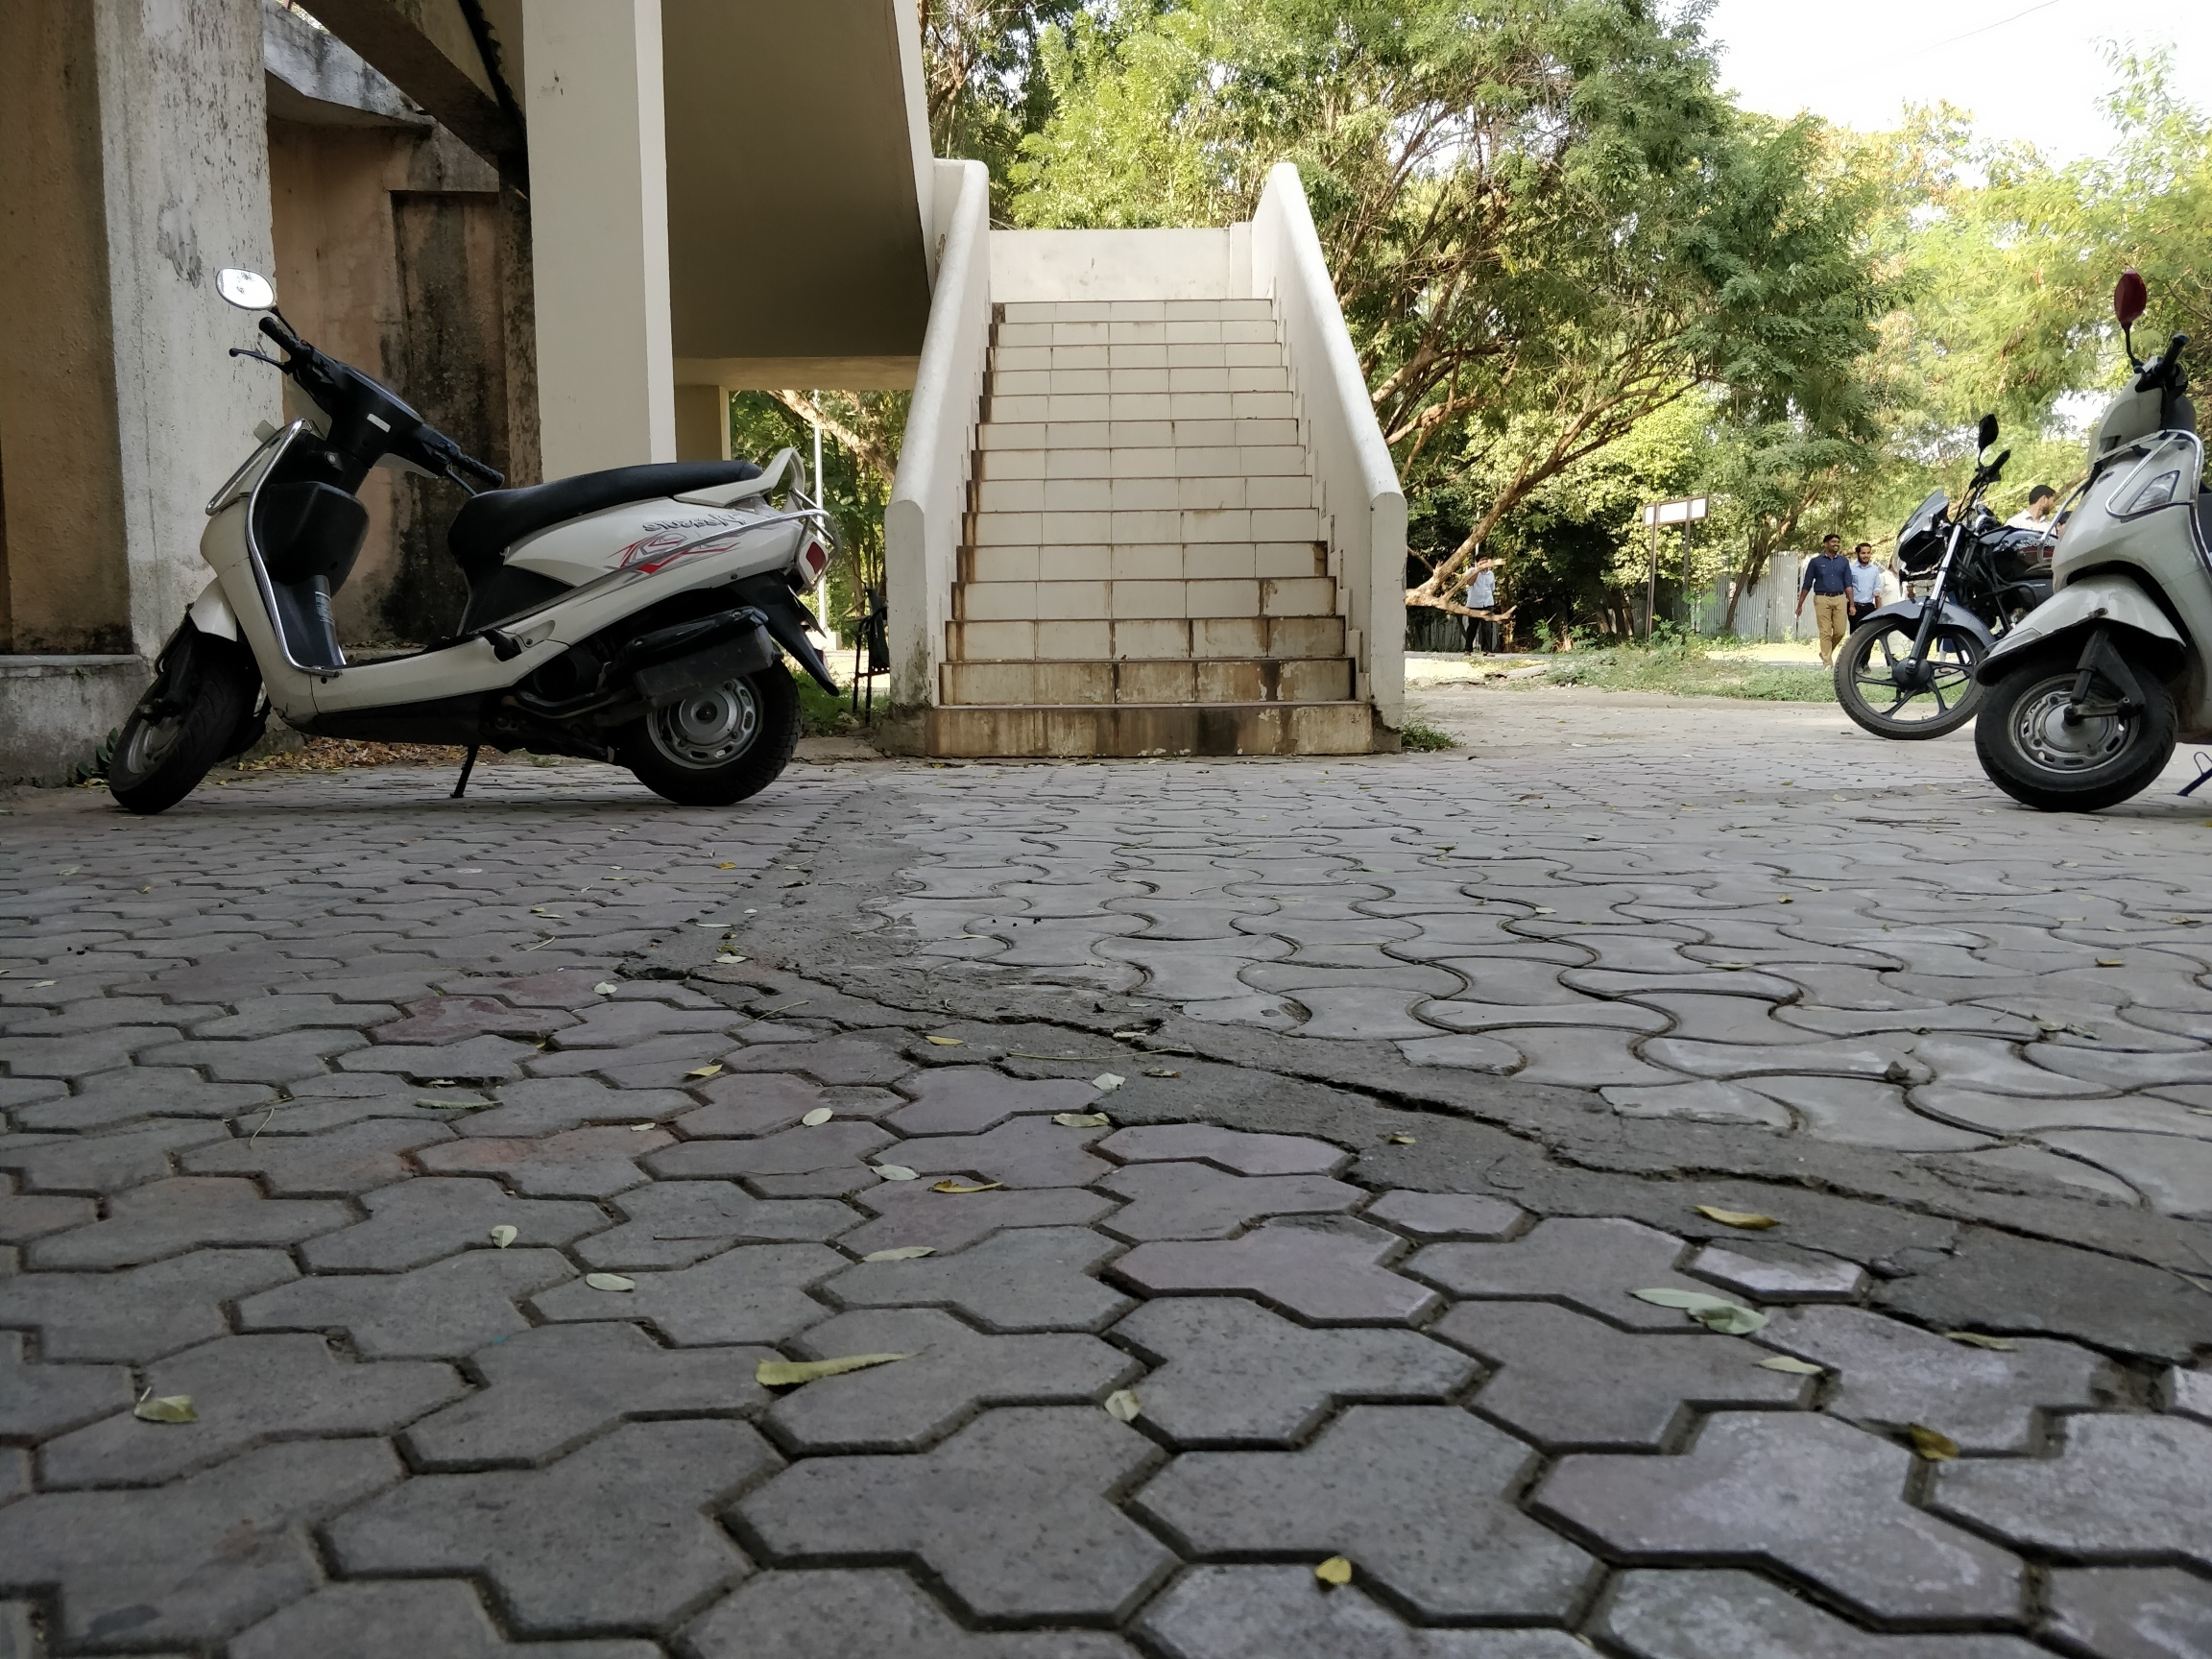stairs_up: (970, 291, 1352, 758)
